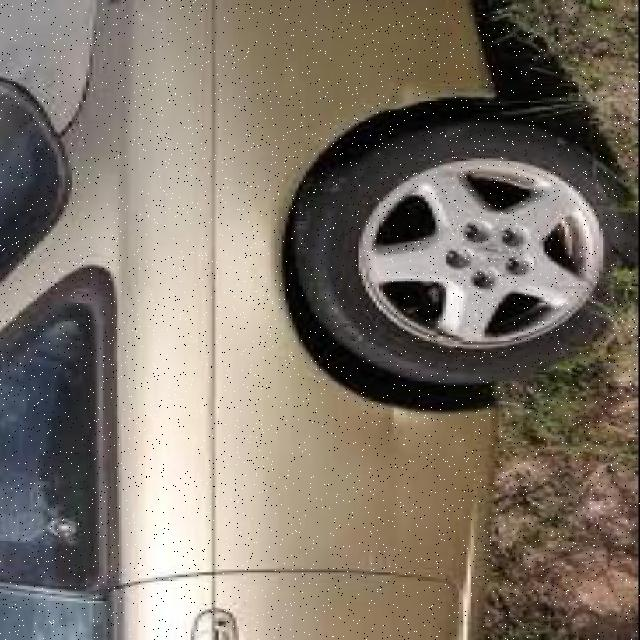damage: (269, 66, 436, 224), (360, 401, 411, 433)
